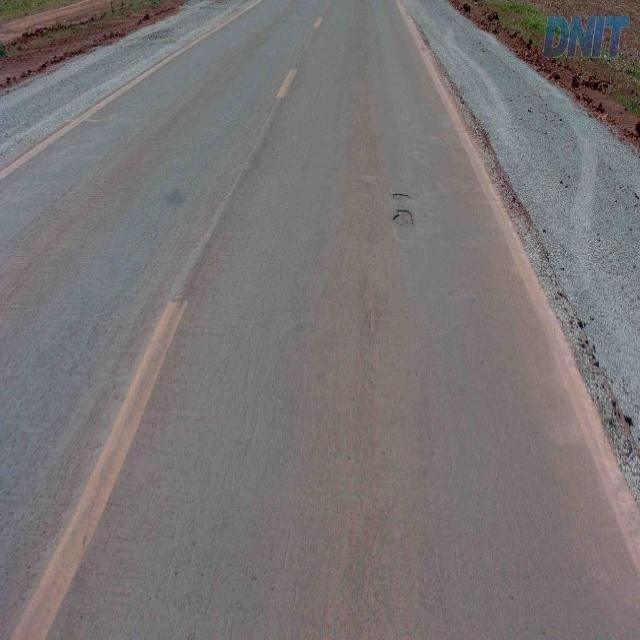pothole: (386, 190, 414, 230)
